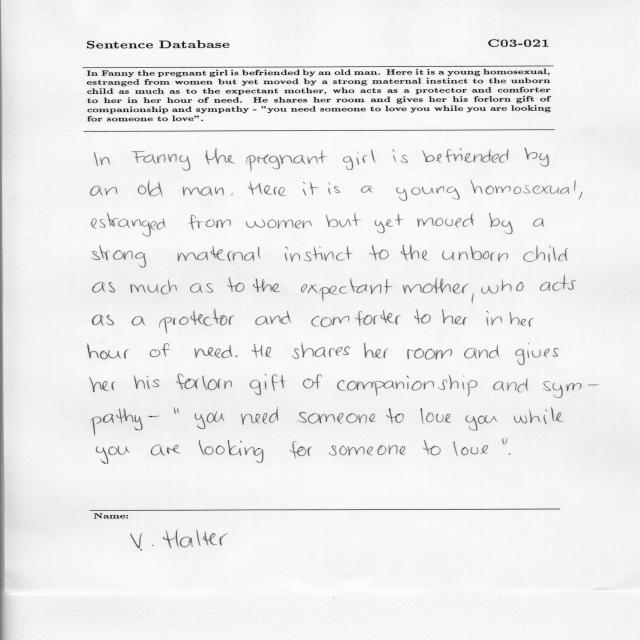word: (337, 374, 477, 397), (301, 279, 392, 302), (159, 309, 234, 333), (92, 213, 166, 236), (246, 151, 326, 172), (311, 310, 401, 327), (199, 440, 264, 463), (471, 180, 570, 195), (92, 408, 143, 436), (423, 148, 509, 163), (178, 247, 261, 262), (132, 151, 191, 171), (93, 246, 146, 268), (285, 245, 352, 262), (403, 278, 469, 294), (442, 246, 508, 261), (292, 342, 350, 359), (515, 343, 559, 365), (396, 186, 460, 201), (298, 412, 376, 424), (543, 381, 598, 398), (176, 374, 232, 390), (417, 213, 474, 228), (329, 445, 406, 456), (514, 407, 563, 424), (523, 245, 568, 262), (250, 374, 286, 395), (130, 279, 177, 294), (343, 149, 375, 170), (241, 407, 278, 425), (246, 219, 312, 229), (88, 344, 129, 360), (188, 215, 231, 230), (481, 279, 524, 294), (96, 446, 130, 464), (540, 275, 576, 291), (375, 214, 404, 233), (408, 348, 453, 360), (248, 182, 286, 196), (465, 415, 498, 431), (464, 344, 499, 359), (454, 441, 489, 456), (489, 213, 513, 234), (256, 311, 292, 325), (420, 408, 451, 424), (194, 345, 232, 358), (195, 412, 224, 429), (326, 213, 361, 227), (493, 378, 528, 392), (205, 149, 235, 165), (524, 148, 549, 167), (442, 309, 468, 325), (401, 245, 428, 260), (290, 441, 312, 459), (253, 279, 280, 293), (138, 181, 163, 196), (90, 377, 115, 392), (183, 187, 224, 196), (510, 312, 534, 327), (364, 343, 388, 358), (134, 375, 159, 389), (151, 445, 180, 456), (369, 245, 389, 260), (386, 408, 404, 424), (303, 374, 322, 389), (150, 343, 170, 357), (252, 344, 272, 358), (91, 186, 118, 196), (423, 440, 441, 455), (228, 277, 245, 292), (414, 309, 431, 324), (93, 314, 114, 326), (486, 311, 502, 326), (190, 283, 213, 293), (95, 153, 111, 167), (93, 282, 115, 292), (393, 149, 408, 163), (303, 182, 318, 195), (574, 181, 582, 200), (328, 182, 340, 194), (132, 316, 145, 326), (533, 218, 544, 227), (361, 186, 372, 193), (174, 407, 179, 414), (503, 439, 508, 445), (149, 416, 160, 418), (472, 293, 474, 303), (235, 355, 238, 357), (231, 193, 233, 195), (508, 453, 510, 455)
